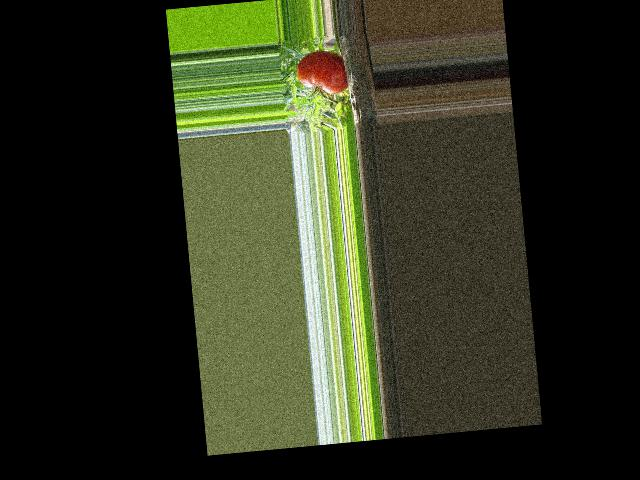tomato: (294, 49, 349, 97)
